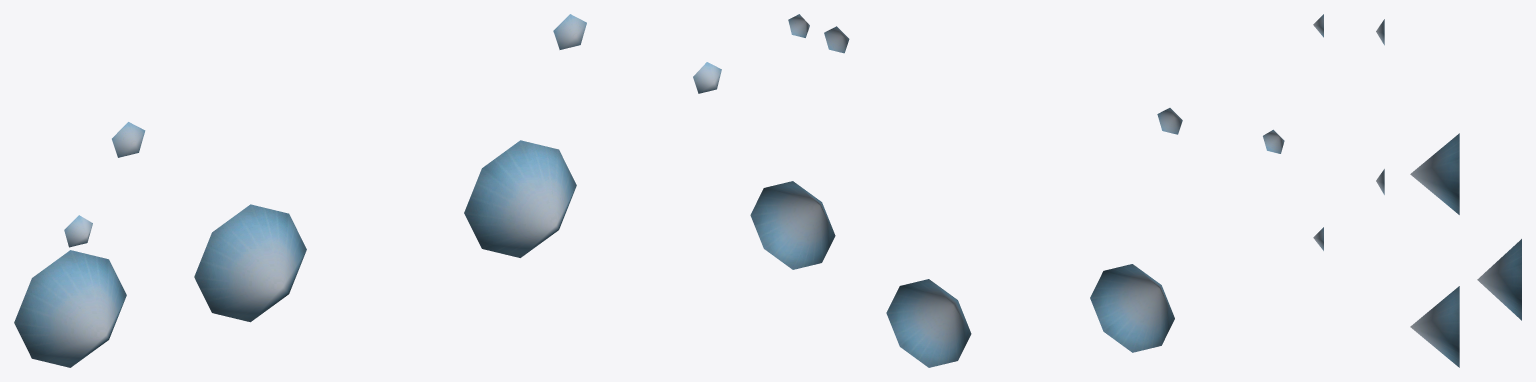
Rendered from shuttle_rebel_engine_on_l1.fbx.
The picture shows the model from 3 angles, left to right: view 1: azimuth 30°, elevation 25°; view 2: azimuth 150°, elevation 25°; view 3: azimuth 270°, elevation 25°; orthographic projection. The views are drawn at different scales.
Parts seen in each view (by area): view 1: mesh_node; view 2: mesh_node; view 3: mesh_node.
Part boxes in pixels (x1,y1,x2,y2): mesh_node: (14,14,721,367); mesh_node: (750,14,1284,367); mesh_node: (1313,14,1521,367).
Bounding box in the file's own units: 14.16 × 6.72 × 5.6.
Materials: 1 (1 with a texture image).
